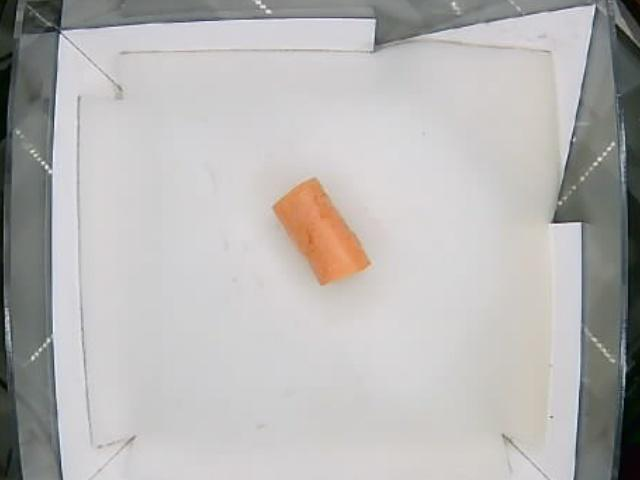Carrot: (272, 177, 371, 287)
